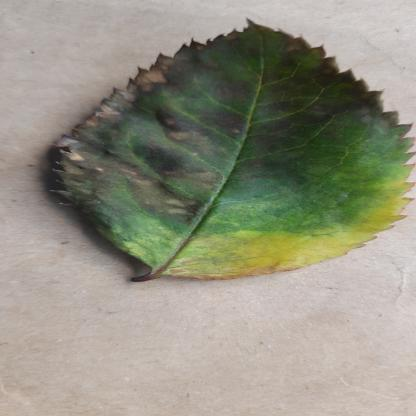powdery-mildew: (42, 23, 408, 283)
